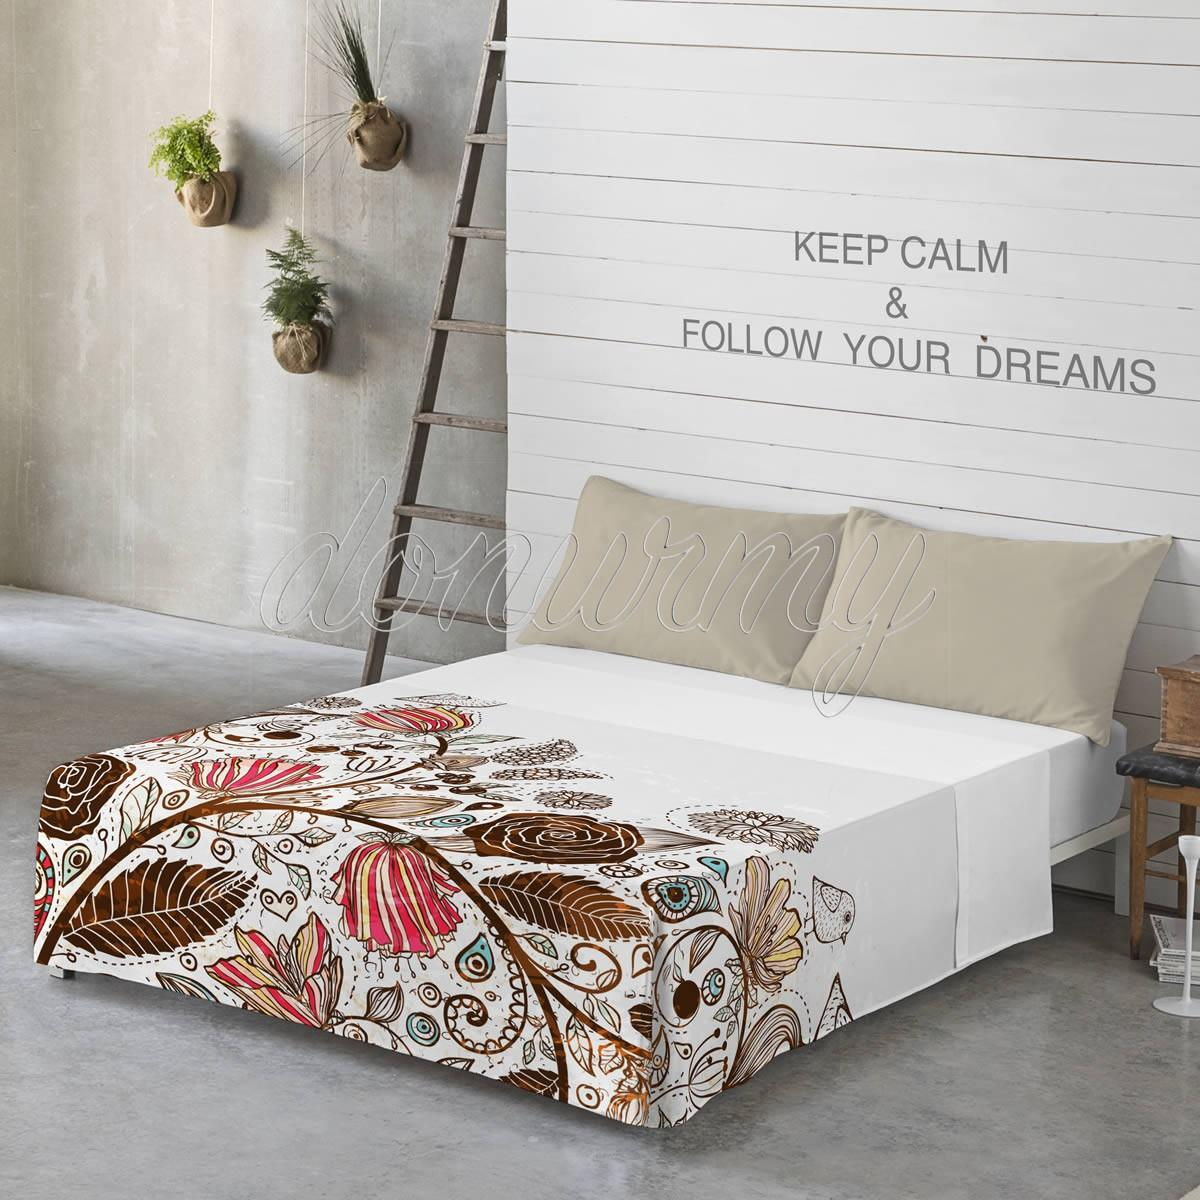bed: (255, 415, 1135, 1133)
